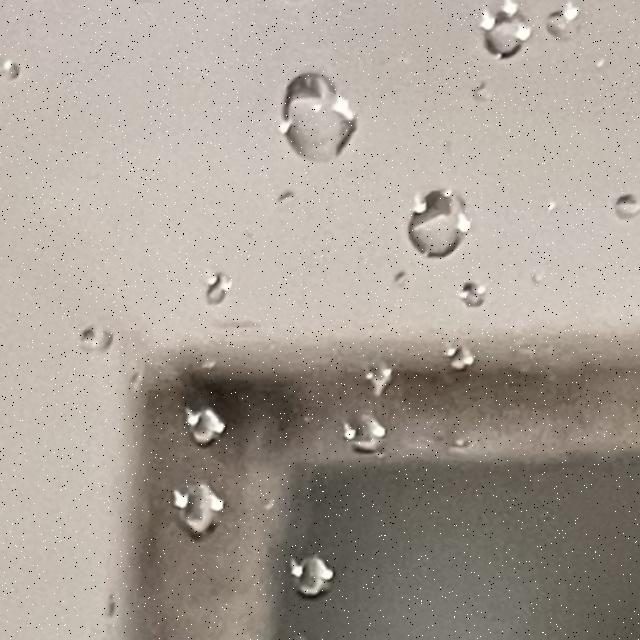raindrop: (256, 44, 360, 170), (269, 534, 358, 610), (154, 484, 239, 553), (401, 185, 471, 252), (481, 8, 547, 66), (337, 407, 397, 464), (163, 415, 240, 457), (190, 249, 252, 296), (351, 351, 403, 403), (447, 266, 491, 318), (69, 316, 115, 357), (533, 5, 586, 30), (437, 352, 468, 388), (612, 194, 632, 224)
